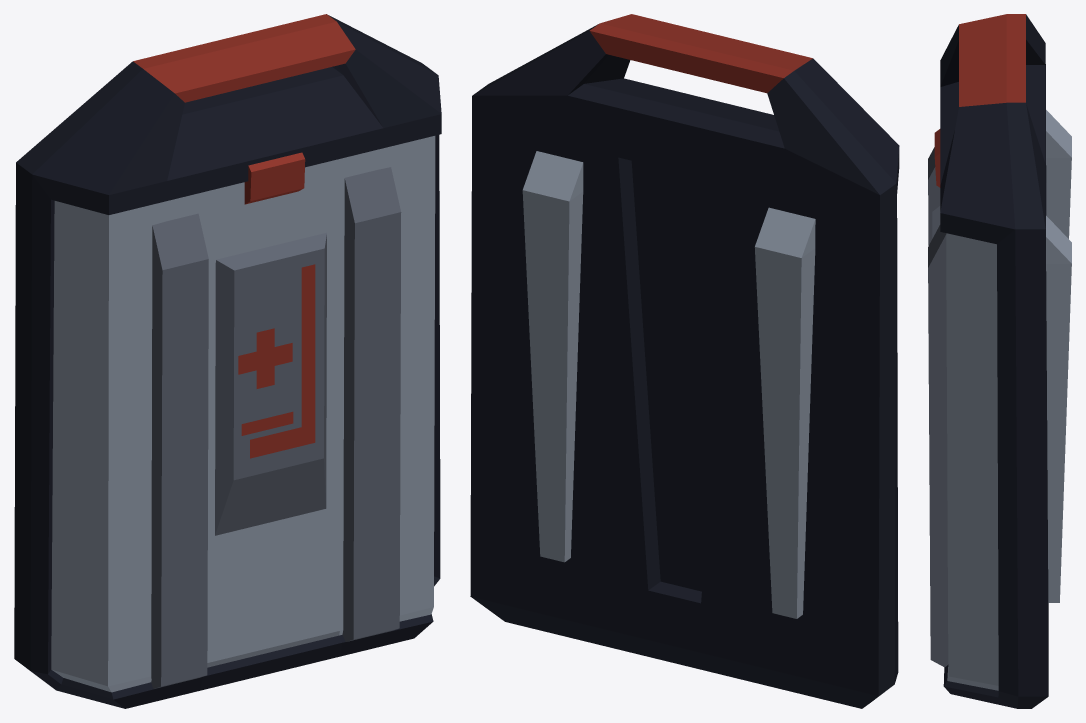
The model's file is MedKit.fbx.
3 views of the same model, side by side, from view 1: azimuth 30°, elevation 25°; view 2: azimuth 150°, elevation 25°; view 3: azimuth 270°, elevation 25° (orthographic). The views are drawn at different scales.
Visible parts, largest first — view 1: MedKit; view 2: MedKit; view 3: MedKit.
Part boxes in pixels (<box>): MedKit: <box>14,14,441,708</box>; MedKit: <box>470,14,899,708</box>; MedKit: <box>928,14,1071,708</box>.
Bounding box in the file's own units: 38.13 × 54.38 × 12.45.
